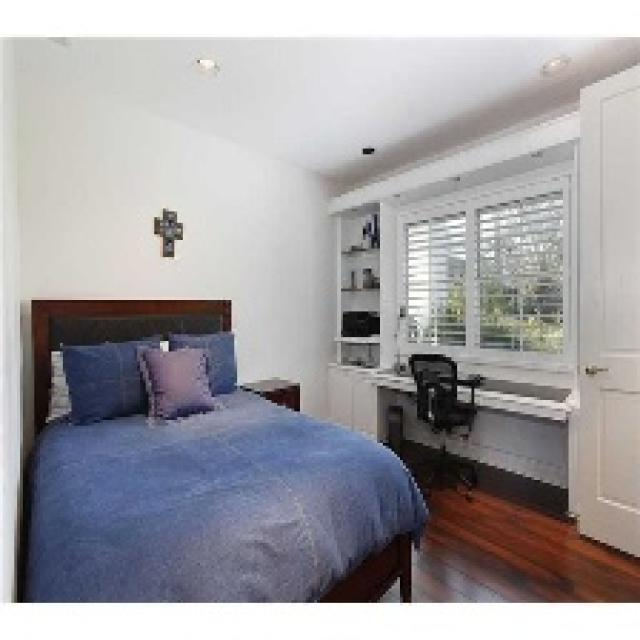Bed: (17, 297, 429, 603)
